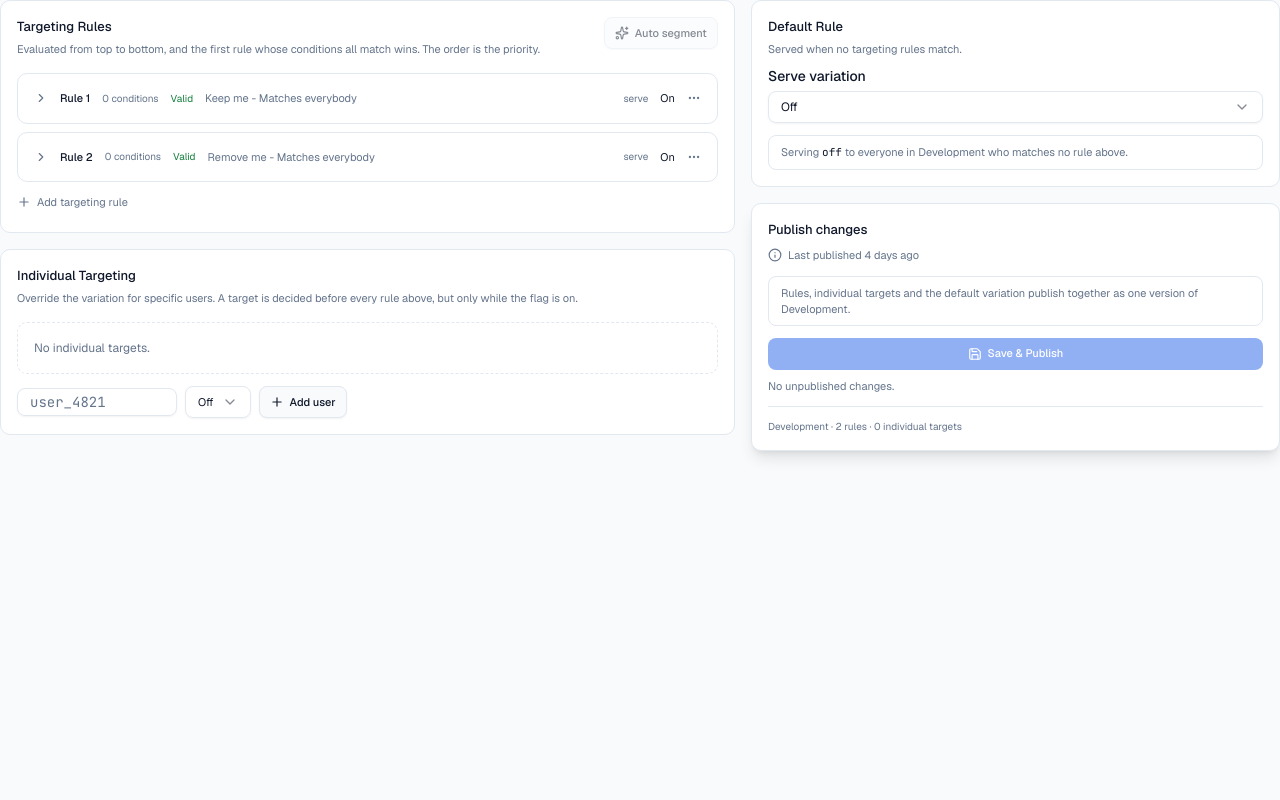
Test: the rule actions › deletes a rule and offers to put it back
Click the button named "Actions for rule 2" at (694, 157), box [683, 146, 705, 168]
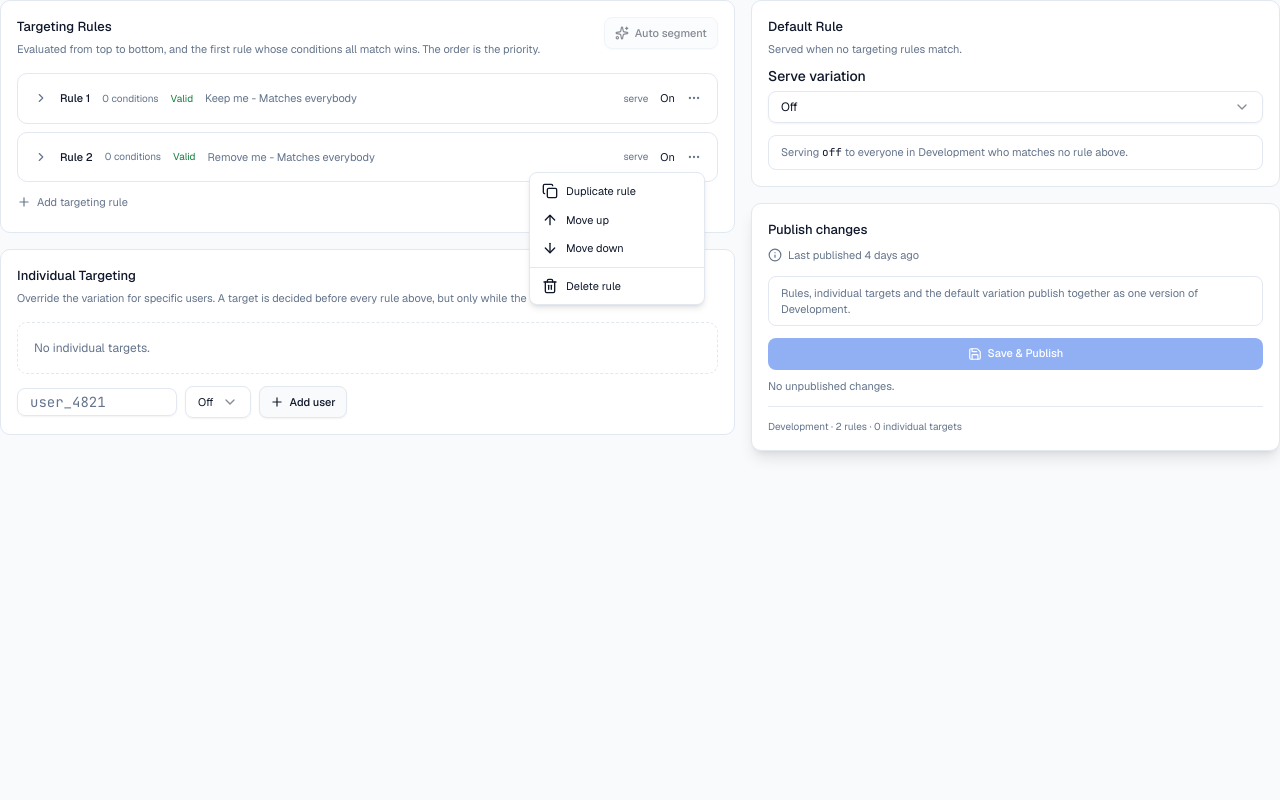
Click the menu item "Delete rule" at (582, 286), box [542, 278, 621, 294]
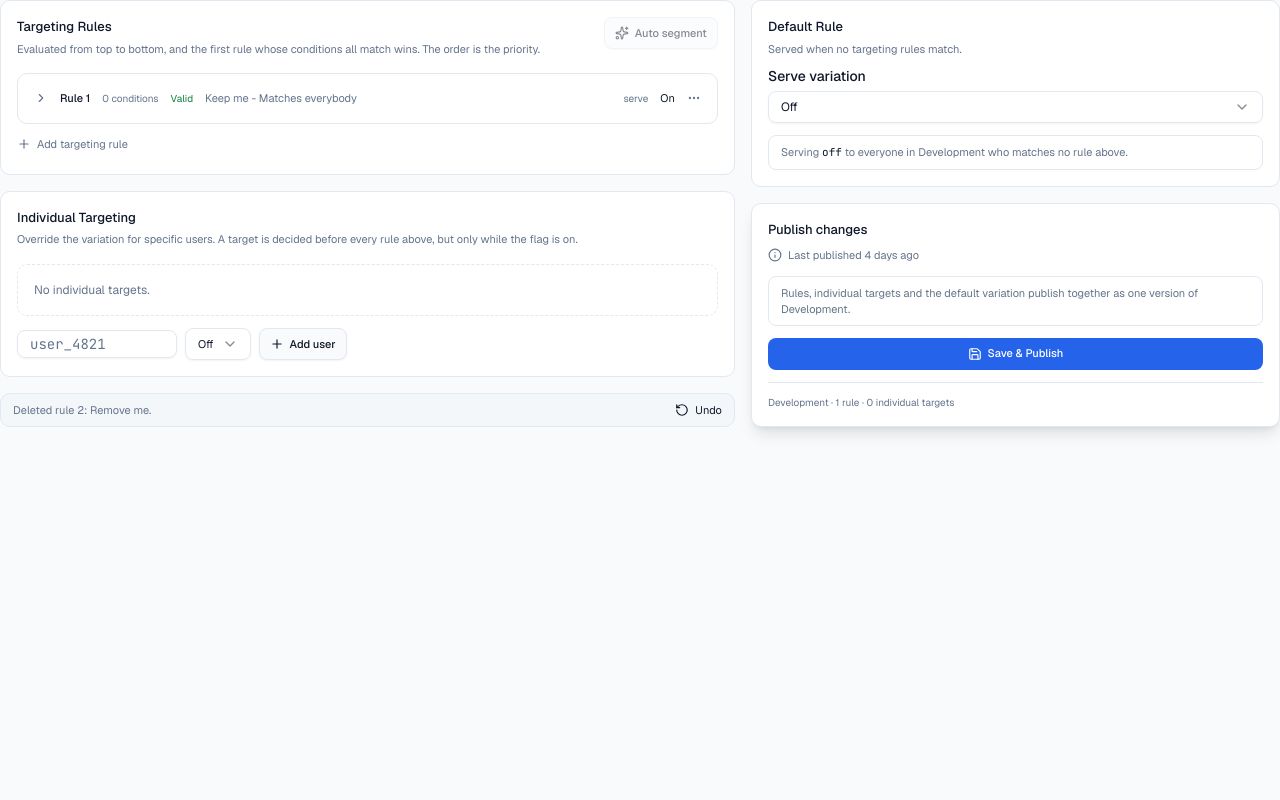
Check: the text "Deleted rule 2: Remove me." is shown, box [13, 402, 151, 418]
Click the button "Undo" at (699, 410), box [675, 402, 722, 418]
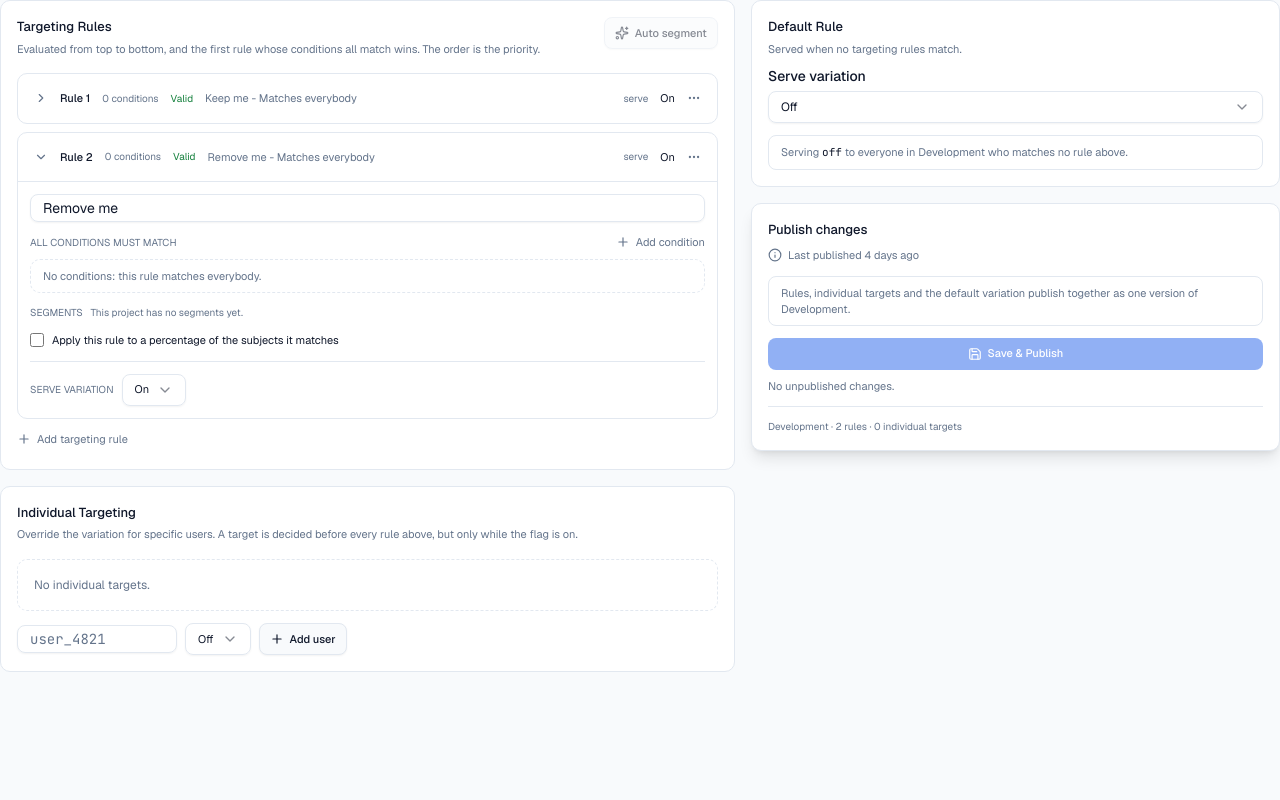
Check: the button "Rule 2" shows "Remove me", box [30, 144, 679, 169]
